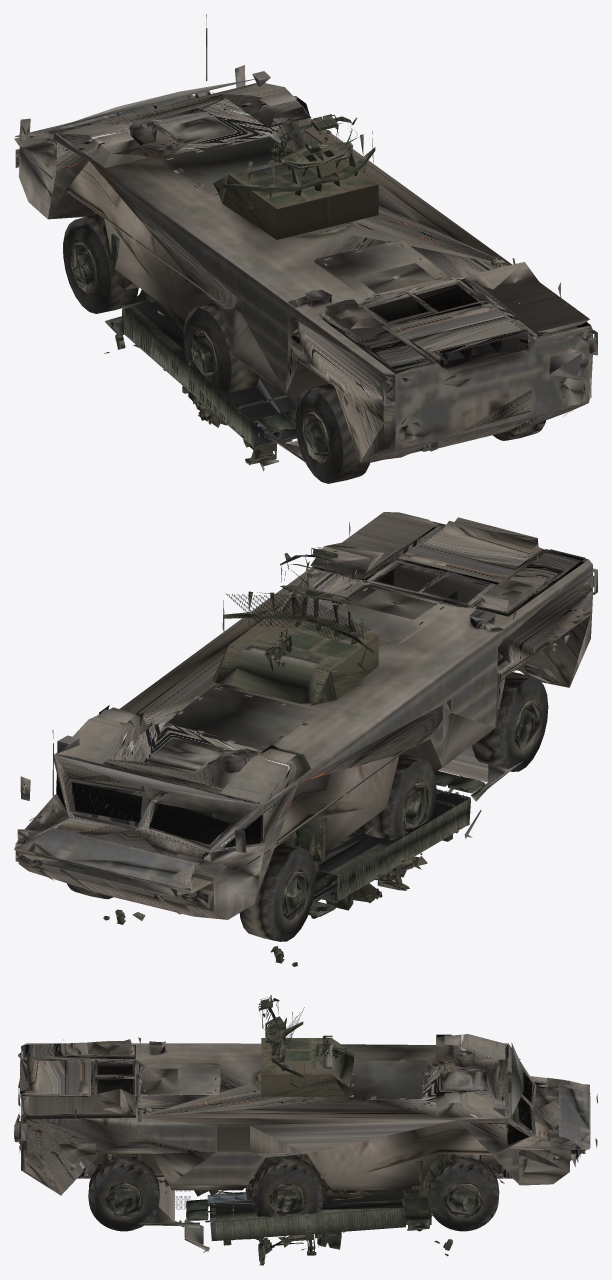
Rendered from osa_lo.glb.
The picture shows the model from 3 angles, top to bottom: view 1: azimuth 30°, elevation 25°; view 2: azimuth 150°, elevation 25°; view 3: azimuth 270°, elevation 25°; orthographic projection. The views are drawn at different scales.
Parts seen in each view (by area): view 1: body|aa81ace9-f6ea-41d6-8ff1-0cd8bfdc516e, body|0cc43b20-b00e-4730-966a-0a7bc93e5f2e, cradle|2824f7ef-9196-4fec-bdef-00bc6086f860, body|29985f28-f2ec-4f0e-85df-fd858dbd8d4d, radar|9009c24b-5d8b-4b82-929e-2c805e7950ad, radar|4e7f1d11-6561-43c8-93bd-7c30f9217e04, cradle|29985f28-f2ec-4f0e-85df-fd858dbd8d4d, turret|9009c24b-5d8b-4b82-929e-2c805e7950ad; view 2: body|aa81ace9-f6ea-41d6-8ff1-0cd8bfdc516e, body|0cc43b20-b00e-4730-966a-0a7bc93e5f2e, body|29985f28-f2ec-4f0e-85df-fd858dbd8d4d, cradle|2824f7ef-9196-4fec-bdef-00bc6086f860, body|5c959dd9-84cd-41c6-ad8c-7b2916692f64, radar|9009c24b-5d8b-4b82-929e-2c805e7950ad, radar|2807dc79-5f4e-4787-9680-1ab55f52c11d, cradle|29985f28-f2ec-4f0e-85df-fd858dbd8d4d, turret|aa81ace9-f6ea-41d6-8ff1-0cd8bfdc516e, radar|4e7f1d11-6561-43c8-93bd-7c30f9217e04, turret|9009c24b-5d8b-4b82-929e-2c805e7950ad; view 3: body|aa81ace9-f6ea-41d6-8ff1-0cd8bfdc516e, body|0cc43b20-b00e-4730-966a-0a7bc93e5f2e, cradle|2824f7ef-9196-4fec-bdef-00bc6086f860, body|29985f28-f2ec-4f0e-85df-fd858dbd8d4d, turret|29985f28-f2ec-4f0e-85df-fd858dbd8d4d, cradle|29985f28-f2ec-4f0e-85df-fd858dbd8d4d, radar|9009c24b-5d8b-4b82-929e-2c805e7950ad, turret|aa81ace9-f6ea-41d6-8ff1-0cd8bfdc516e, radar|4e7f1d11-6561-43c8-93bd-7c30f9217e04, body|5c959dd9-84cd-41c6-ad8c-7b2916692f64, turret|9009c24b-5d8b-4b82-929e-2c805e7950ad, cradle|aa81ace9-f6ea-41d6-8ff1-0cd8bfdc516e.
Boxes of the visible parts, left/top/right/bottom form: body|aa81ace9-f6ea-41d6-8ff1-0cd8bfdc516e: left=14, top=65, right=597, bottom=462; body|0cc43b20-b00e-4730-966a-0a7bc93e5f2e: left=63, top=214, right=545, bottom=483; cradle|2824f7ef-9196-4fec-bdef-00bc6086f860: left=105, top=298, right=296, bottom=448; body|29985f28-f2ec-4f0e-85df-fd858dbd8d4d: left=213, top=159, right=378, bottom=239; radar|9009c24b-5d8b-4b82-929e-2c805e7950ad: left=223, top=131, right=375, bottom=208; radar|4e7f1d11-6561-43c8-93bd-7c30f9217e04: left=280, top=114, right=357, bottom=175; cradle|29985f28-f2ec-4f0e-85df-fd858dbd8d4d: left=182, top=386, right=292, bottom=465; turret|9009c24b-5d8b-4b82-929e-2c805e7950ad: left=98, top=214, right=138, bottom=289; body|aa81ace9-f6ea-41d6-8ff1-0cd8bfdc516e: left=14, top=512, right=597, bottom=919; body|0cc43b20-b00e-4730-966a-0a7bc93e5f2e: left=67, top=672, right=548, bottom=941; body|29985f28-f2ec-4f0e-85df-fd858dbd8d4d: left=212, top=610, right=378, bottom=705; cradle|2824f7ef-9196-4fec-bdef-00bc6086f860: left=308, top=771, right=485, bottom=918; body|5c959dd9-84cd-41c6-ad8c-7b2916692f64: left=56, top=774, right=261, bottom=847; radar|9009c24b-5d8b-4b82-929e-2c805e7950ad: left=222, top=591, right=375, bottom=671; radar|2807dc79-5f4e-4787-9680-1ab55f52c11d: left=226, top=594, right=370, bottom=641; cradle|29985f28-f2ec-4f0e-85df-fd858dbd8d4d: left=326, top=834, right=452, bottom=910; turret|aa81ace9-f6ea-41d6-8ff1-0cd8bfdc516e: left=438, top=746, right=522, bottom=801; radar|4e7f1d11-6561-43c8-93bd-7c30f9217e04: left=280, top=547, right=356, bottom=610; turret|9009c24b-5d8b-4b82-929e-2c805e7950ad: left=148, top=797, right=327, bottom=878; body|aa81ace9-f6ea-41d6-8ff1-0cd8bfdc516e: left=14, top=1034, right=597, bottom=1195; body|0cc43b20-b00e-4730-966a-0a7bc93e5f2e: left=88, top=1157, right=499, bottom=1231; cradle|2824f7ef-9196-4fec-bdef-00bc6086f860: left=186, top=1190, right=430, bottom=1241; body|29985f28-f2ec-4f0e-85df-fd858dbd8d4d: left=261, top=1038, right=353, bottom=1097; turret|29985f28-f2ec-4f0e-85df-fd858dbd8d4d: left=209, top=1154, right=432, bottom=1224; cradle|29985f28-f2ec-4f0e-85df-fd858dbd8d4d: left=223, top=1178, right=341, bottom=1265; radar|9009c24b-5d8b-4b82-929e-2c805e7950ad: left=271, top=1012, right=347, bottom=1087; turret|aa81ace9-f6ea-41d6-8ff1-0cd8bfdc516e: left=123, top=1178, right=199, bottom=1228; radar|4e7f1d11-6561-43c8-93bd-7c30f9217e04: left=258, top=995, right=286, bottom=1047; body|5c959dd9-84cd-41c6-ad8c-7b2916692f64: left=506, top=1071, right=532, bottom=1144; turret|9009c24b-5d8b-4b82-929e-2c805e7950ad: left=398, top=1099, right=454, bottom=1198; cradle|aa81ace9-f6ea-41d6-8ff1-0cd8bfdc516e: left=175, top=1219, right=209, bottom=1252.
Bounding box in the file's own units: 3.07 × 4.17 × 9.29.
Materials: 25 (23 with a texture image).
